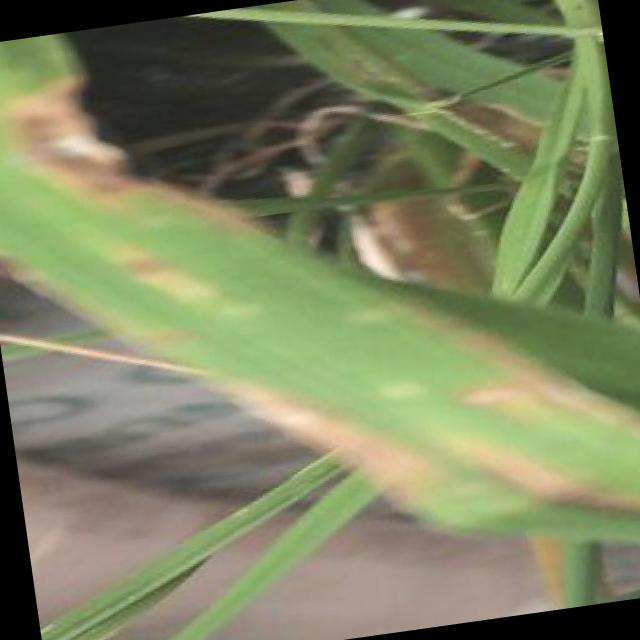Rice_Blast: (200, 324, 456, 551), (0, 44, 201, 220), (436, 305, 640, 455), (102, 220, 243, 323)
